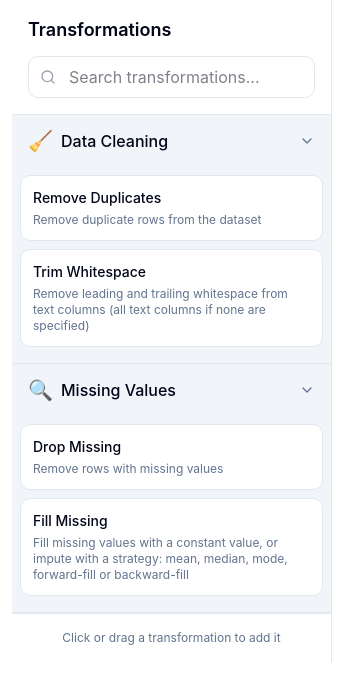
Test: TransformationSidebar › filters by the search term
The image size is (349, 679).
Type "Remove Duplicates" into the field with placeholder "Search transformations..." at (172, 77), box [28,56,315,98]
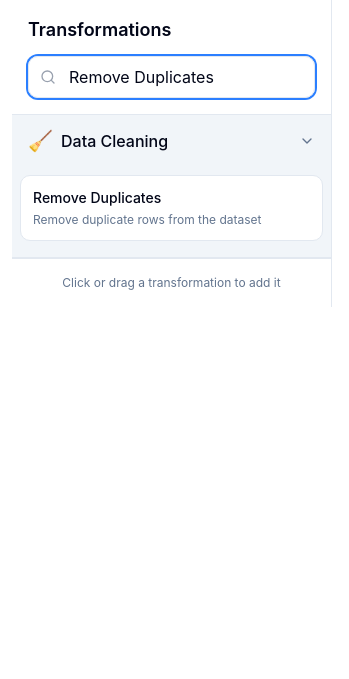
expect the number of buttons named "Add " is 1: met, box [20,175,323,241]
